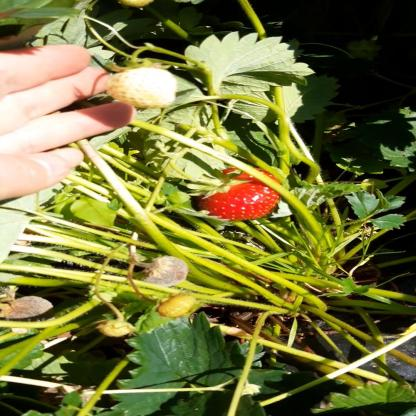ripe: (186, 166, 286, 223)
unripe: (104, 68, 181, 109), (137, 253, 195, 293), (151, 292, 204, 320), (98, 316, 136, 336)
